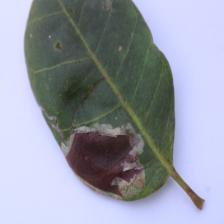leaf miner: (23, 0, 205, 209)
